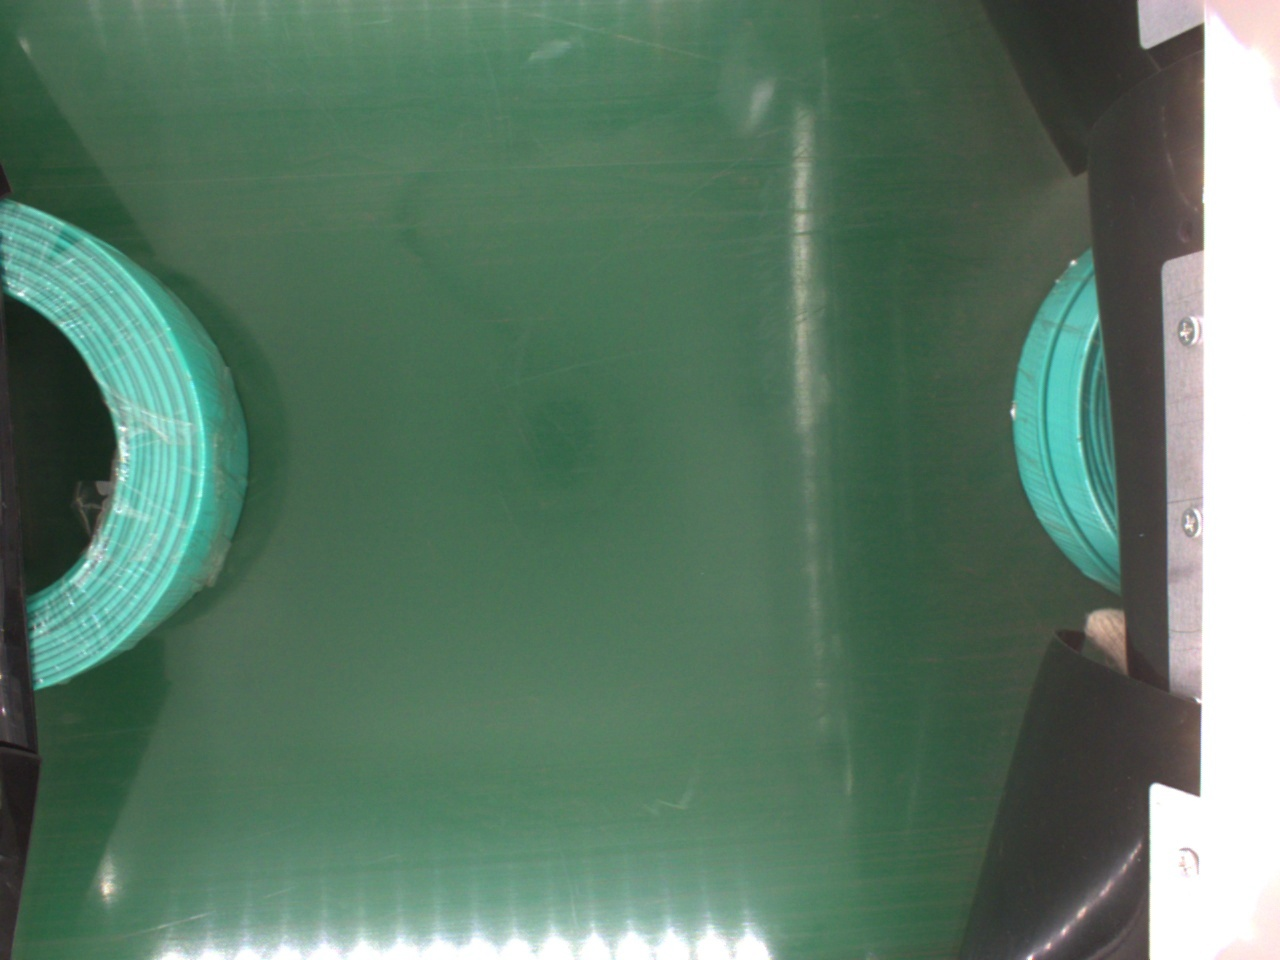green: (5, 195, 241, 690), (1001, 248, 1121, 599)
